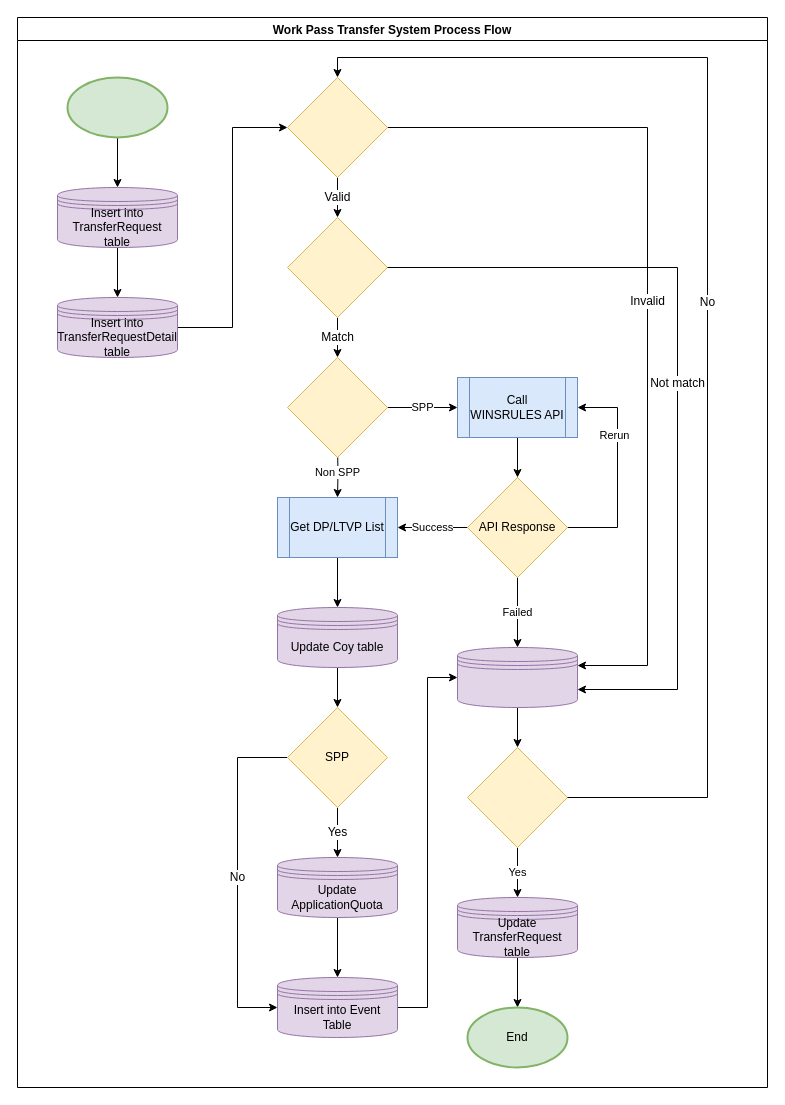
Image size: 785x1105. Some labels were removed from this diagram. Here are the shapes that lost their labels. From the top down, the box of each, then its label:
(66, 76, 168, 138): Start
(286, 76, 388, 178): Check valid FIN+DOA
(286, 216, 388, 318): Check source company code by FIN
(286, 356, 388, 458): Get Pass Type by FIN
(456, 646, 578, 708): Update TransferRequestDetail table
(466, 746, 568, 848): Last record processed?
